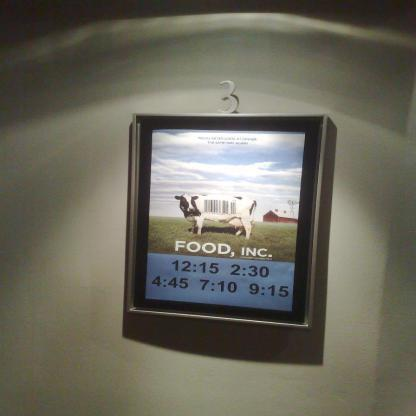Picture-frame: (123, 112, 328, 331)
